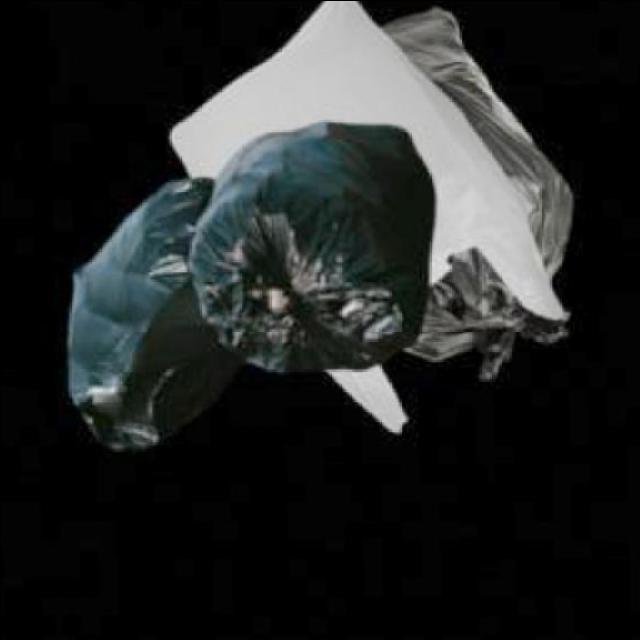plastik: (169, 0, 566, 320), (187, 122, 433, 370), (383, 7, 572, 284), (68, 178, 241, 449), (405, 246, 566, 379)
